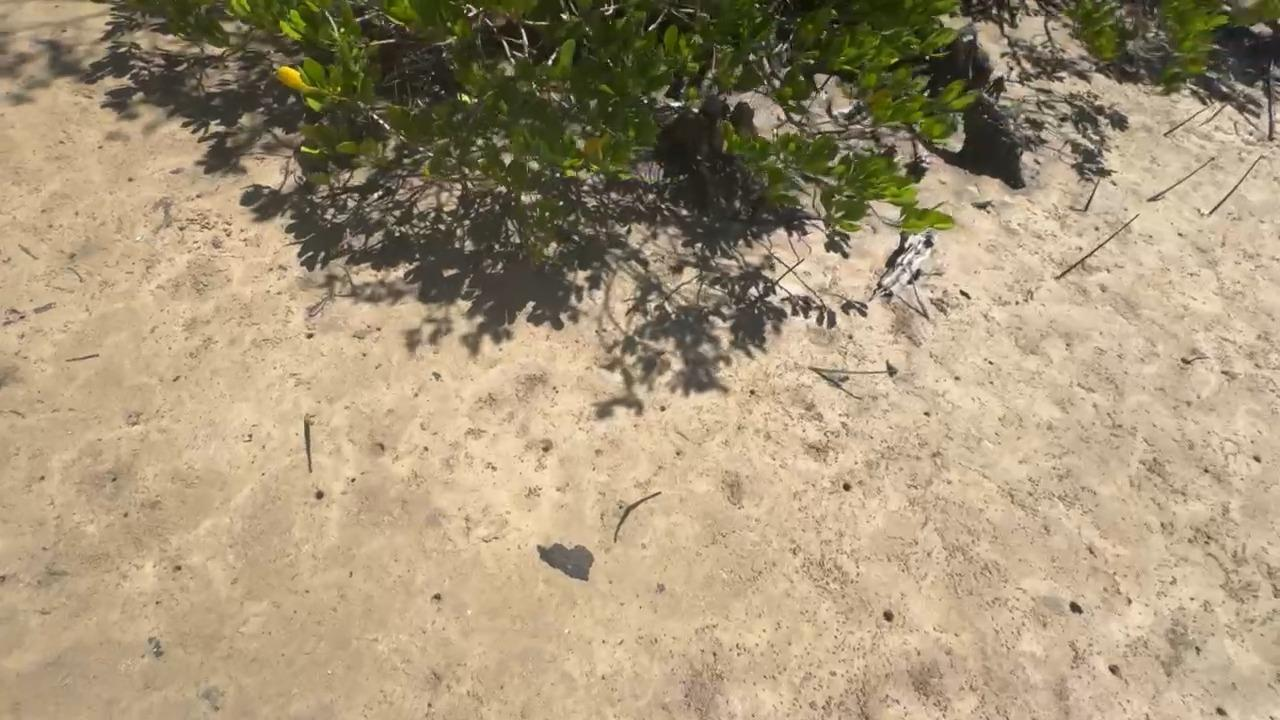Tree: (1058, 213, 1140, 280), (1209, 154, 1262, 217), (1145, 157, 1217, 203), (1164, 105, 1208, 137), (625, 492, 663, 512), (808, 365, 898, 373), (1204, 103, 1231, 125), (1084, 179, 1100, 212), (303, 414, 317, 427)
